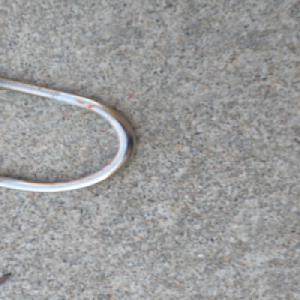ClampPart: (0, 76, 140, 193)
